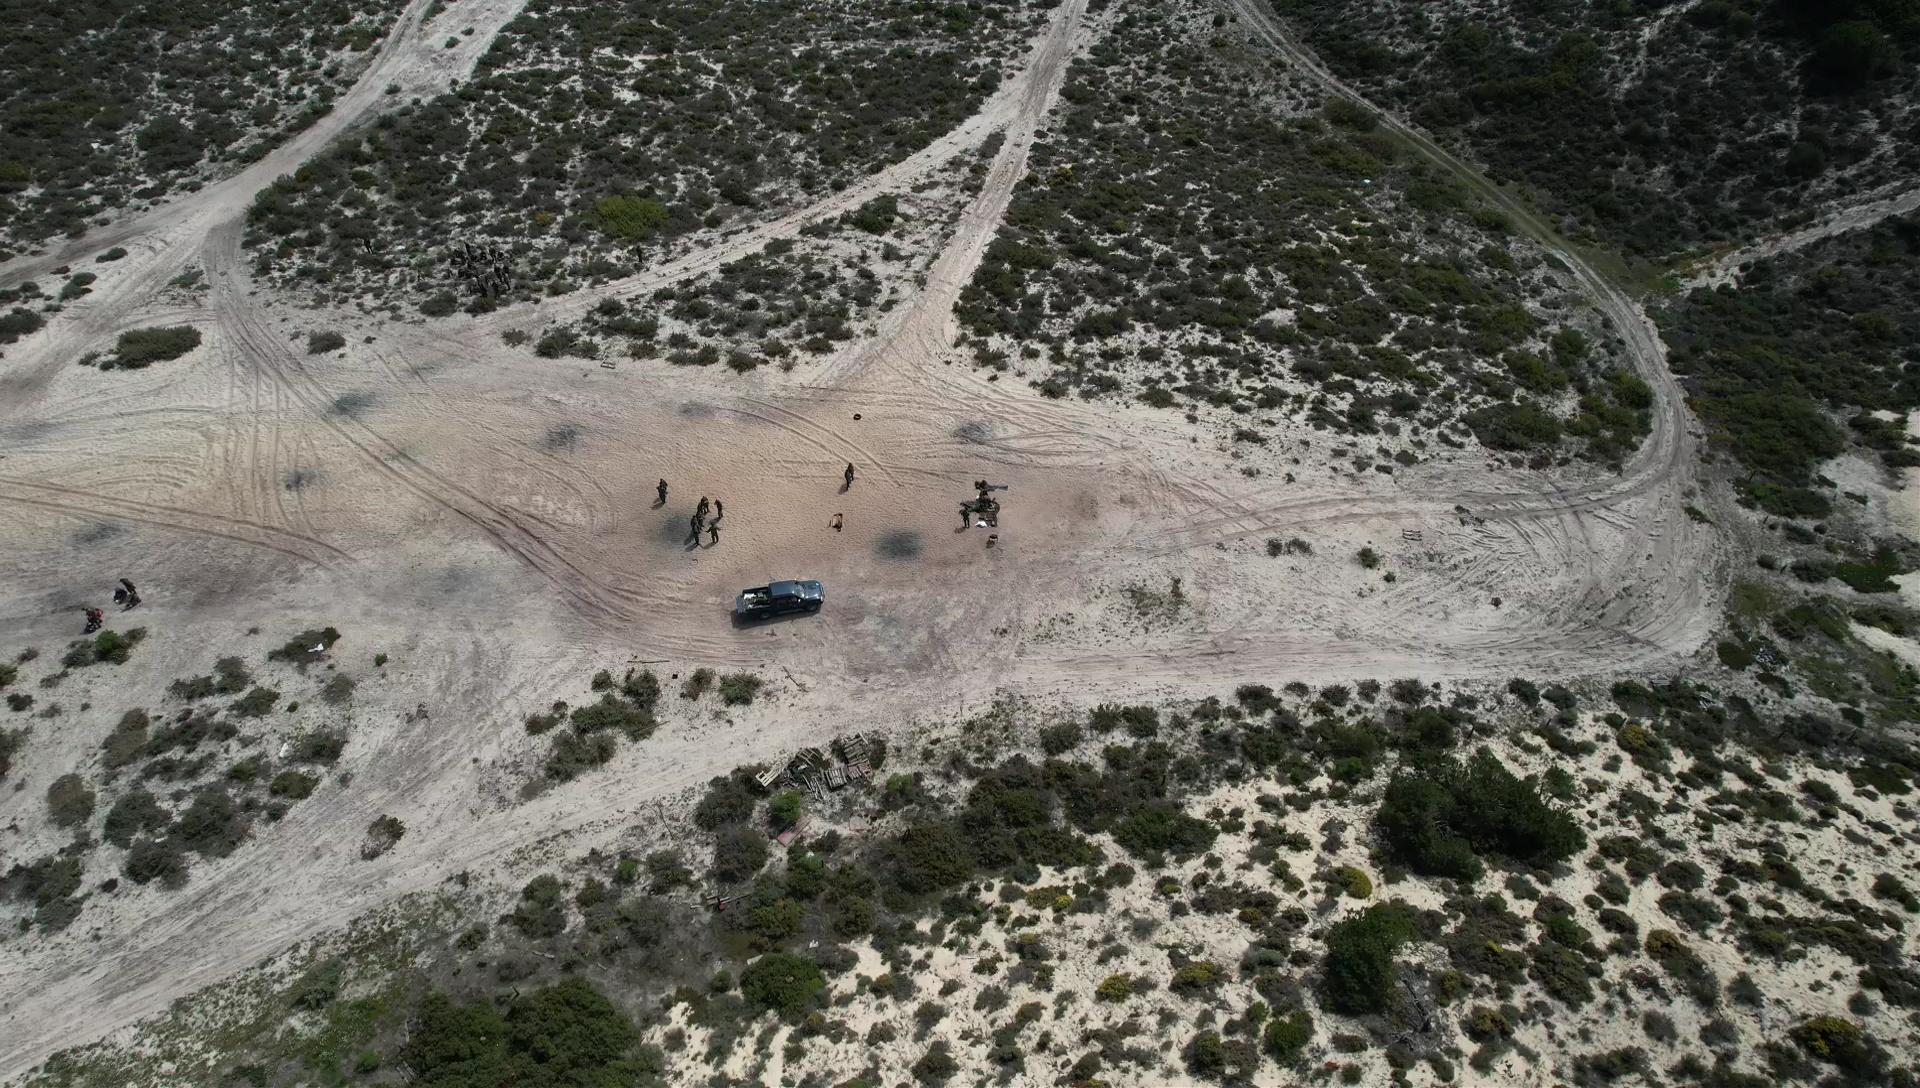Soldier: (649, 476, 679, 506), (690, 489, 713, 516), (961, 497, 994, 516), (707, 520, 723, 546), (690, 521, 704, 546), (841, 466, 855, 492), (713, 496, 728, 520), (960, 506, 972, 528)
